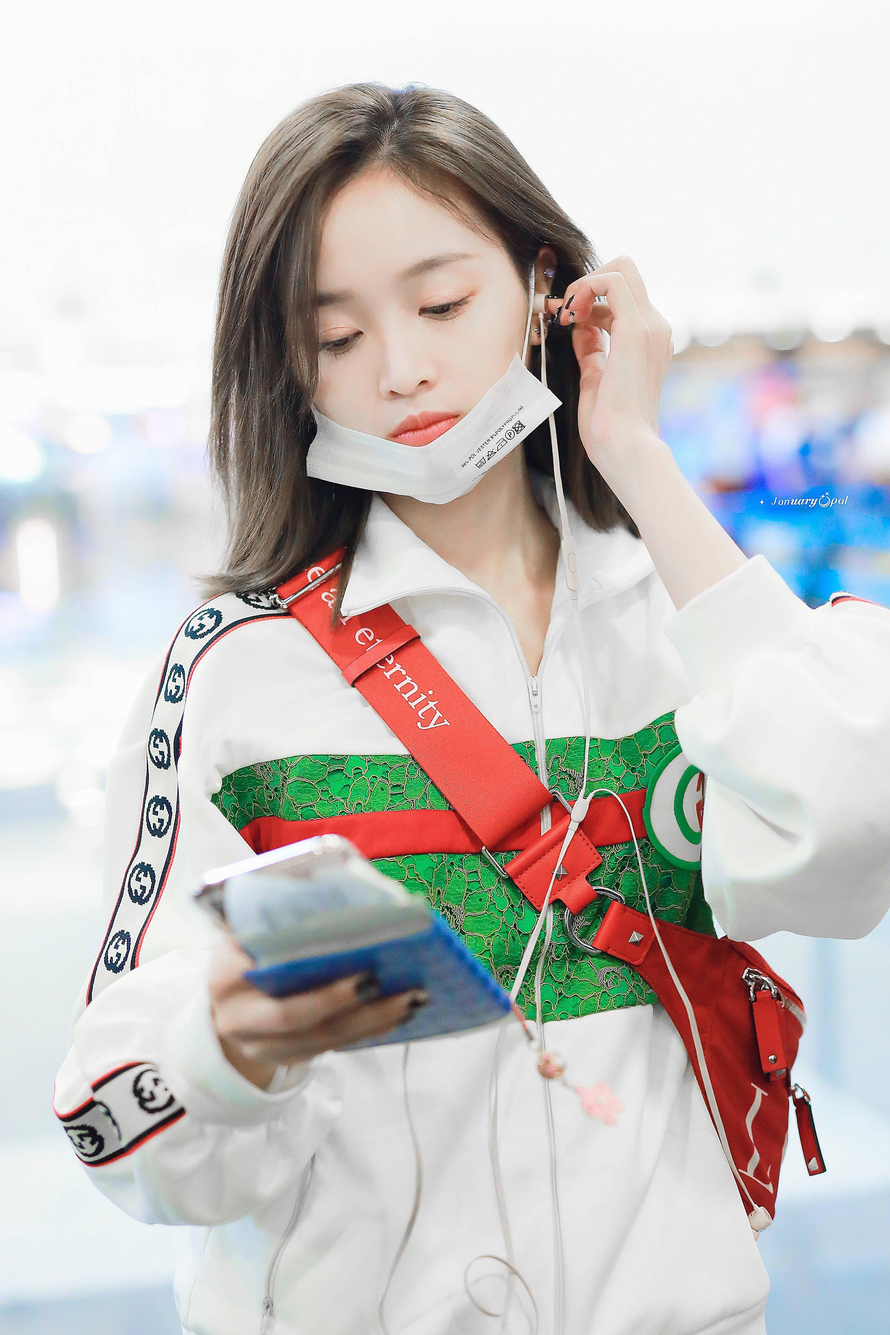WRONG: (282, 216, 533, 500)
